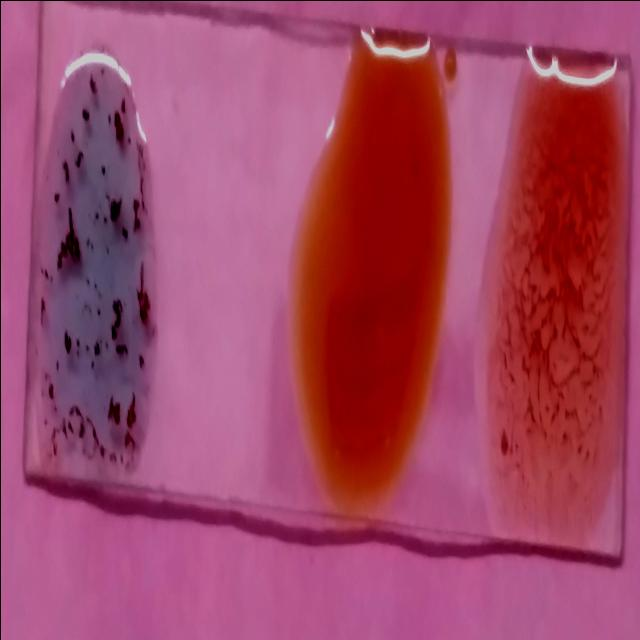A: (39, 47, 158, 481)
D: (500, 56, 618, 520)
